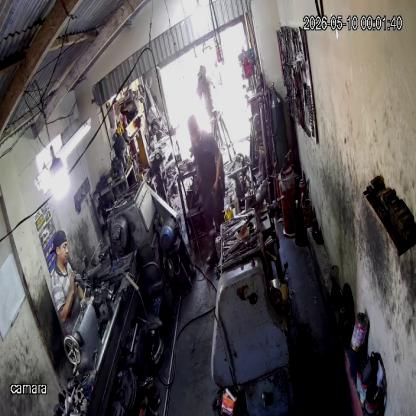sin_lentes: (58, 243, 68, 252)
